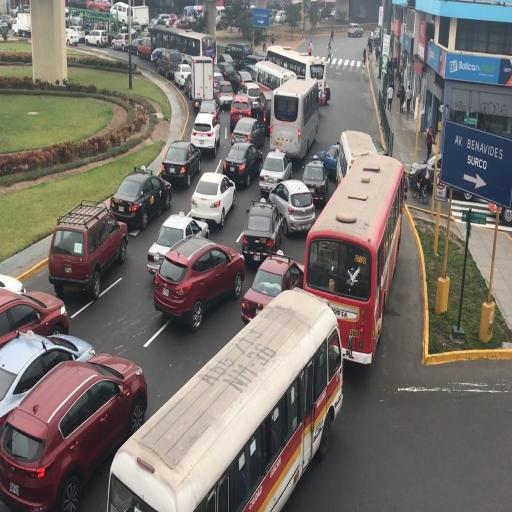auto: (0, 350, 145, 510), (152, 236, 246, 328), (48, 202, 127, 299), (0, 411, 57, 512), (1, 283, 67, 358), (242, 250, 306, 324), (109, 167, 170, 231), (148, 211, 208, 272), (267, 177, 315, 237), (240, 200, 283, 264), (188, 172, 234, 230), (442, 155, 492, 203), (152, 259, 187, 322), (160, 140, 202, 189), (222, 140, 261, 188), (409, 152, 445, 197), (258, 148, 292, 194), (190, 109, 220, 157), (301, 156, 329, 206), (230, 116, 266, 152), (235, 79, 266, 117), (184, 68, 216, 102), (252, 84, 274, 132), (229, 96, 255, 132), (486, 196, 511, 226), (196, 97, 220, 128), (215, 53, 237, 80), (0, 270, 24, 294), (110, 1, 132, 27), (214, 79, 233, 109), (174, 62, 192, 89), (225, 71, 244, 95), (239, 62, 260, 83), (136, 37, 154, 60), (85, 29, 108, 47), (110, 33, 132, 51), (242, 54, 263, 70), (66, 26, 84, 44), (150, 46, 167, 65), (117, 26, 138, 40), (150, 13, 172, 26), (212, 64, 224, 83), (347, 23, 363, 37), (68, 10, 82, 26), (174, 18, 192, 30), (0, 14, 15, 27), (216, 14, 228, 30), (274, 10, 286, 24), (252, 52, 267, 62), (12, 16, 19, 36), (0, 19, 9, 34), (329, 9, 335, 19)
bus: (110, 294, 331, 506), (306, 146, 400, 358), (270, 75, 318, 162), (266, 44, 328, 108), (338, 129, 381, 191), (248, 59, 294, 114), (162, 30, 214, 64), (183, 4, 205, 24), (13, 13, 31, 36)
camion: (128, 4, 150, 32)
moto: (410, 172, 429, 204)
